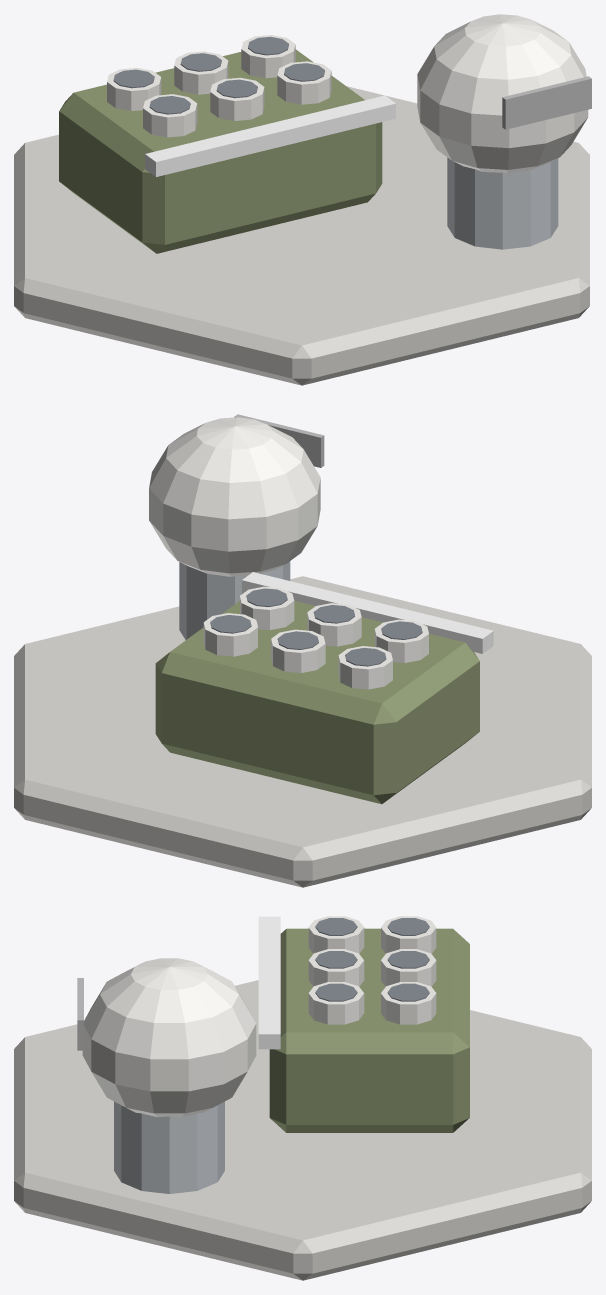
The model's file is antinuke.glb.
3 renders of one model, top to bottom at view 1: azimuth 30°, elevation 25°; view 2: azimuth 150°, elevation 25°; view 3: azimuth 270°, elevation 25°, orthographic.
Parts seen in each view (by area): view 1: main, rotor; view 2: main, rotor; view 3: main, rotor.
Boxes of the visible parts, x1,y1,x2,y2 form: main: [14, 35, 589, 385]; rotor: [417, 14, 591, 173]; main: [14, 561, 591, 887]; rotor: [149, 414, 324, 576]; main: [14, 916, 591, 1280]; rotor: [77, 958, 256, 1117].
Size of the model in its own units: 1.18 by 0.484 by 1.04.
